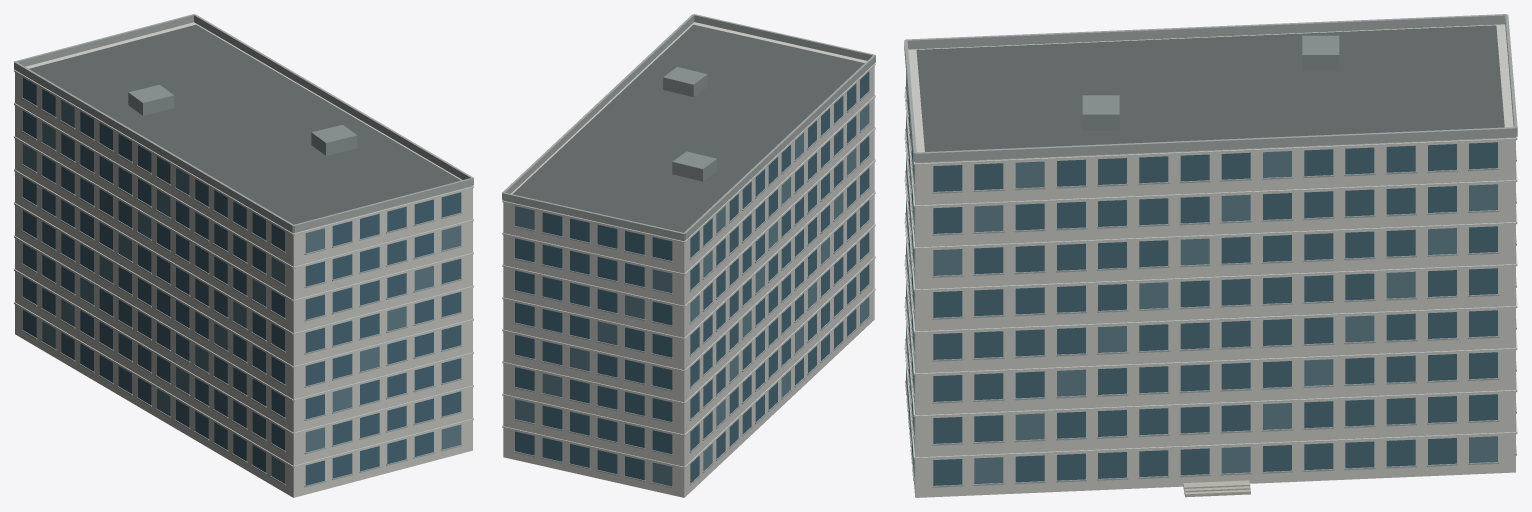
Rendered from 核心区东侧-025.glb.
The picture shows the model from 3 angles, left to right: view 1: azimuth 30°, elevation 25°; view 2: azimuth 150°, elevation 25°; view 3: azimuth 270°, elevation 25°; orthographic projection. The views are drawn at different scales.
Parts seen in each view (by area): view 1: 核心区东侧-025; view 2: 核心区东侧-025; view 3: 核心区东侧-025.
Boxes of the visible parts, bbox=[...] form: 核心区东侧-025: bbox=[14, 14, 473, 497]; 核心区东侧-025: bbox=[502, 14, 875, 497]; 核心区东侧-025: bbox=[904, 14, 1517, 497].
Bounding box in the file's own units: 24.99 × 29.42 × 46.33.
